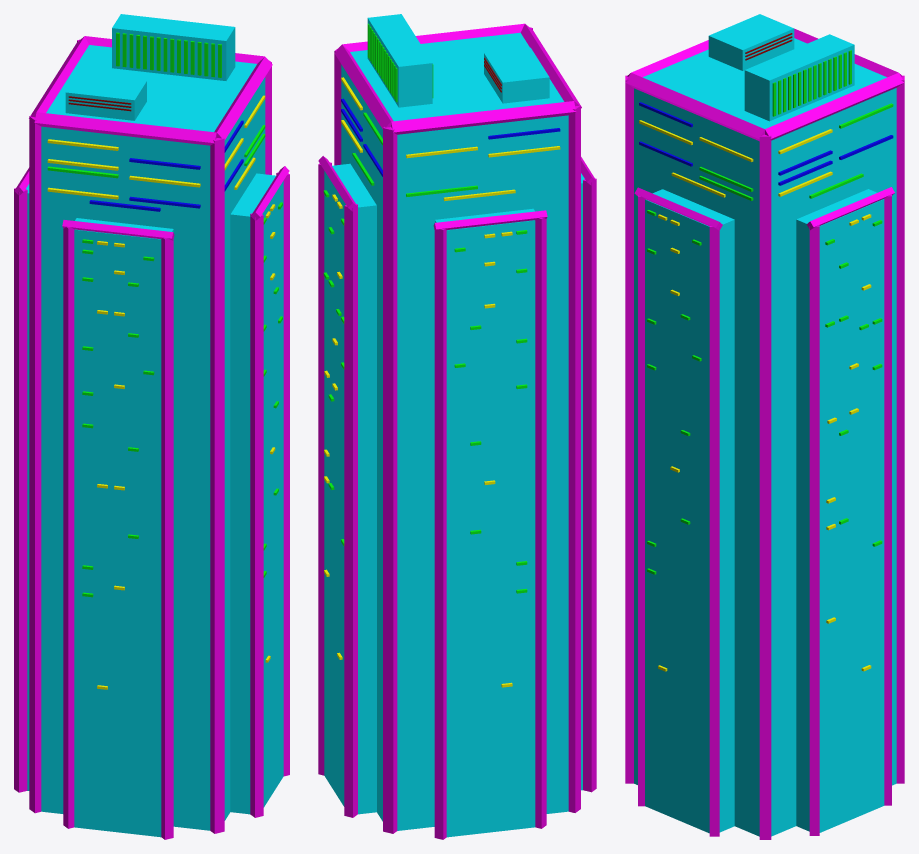
File: SM_Building03.FBX
3 views of the same model, side by side, from view 1: azimuth 30°, elevation 25°; view 2: azimuth 150°, elevation 25°; view 3: azimuth 270°, elevation 25° (orthographic).
Parts seen in each view (by area): view 1: Object012; view 2: Object012; view 3: Object012.
Part boxes in pixels (bbox=[...]): Object012: bbox=[14, 14, 289, 839]; Object012: bbox=[318, 14, 596, 839]; Object012: bbox=[625, 14, 904, 839].
Size of the model in its own units: 57.66 by 169 by 57.68.
